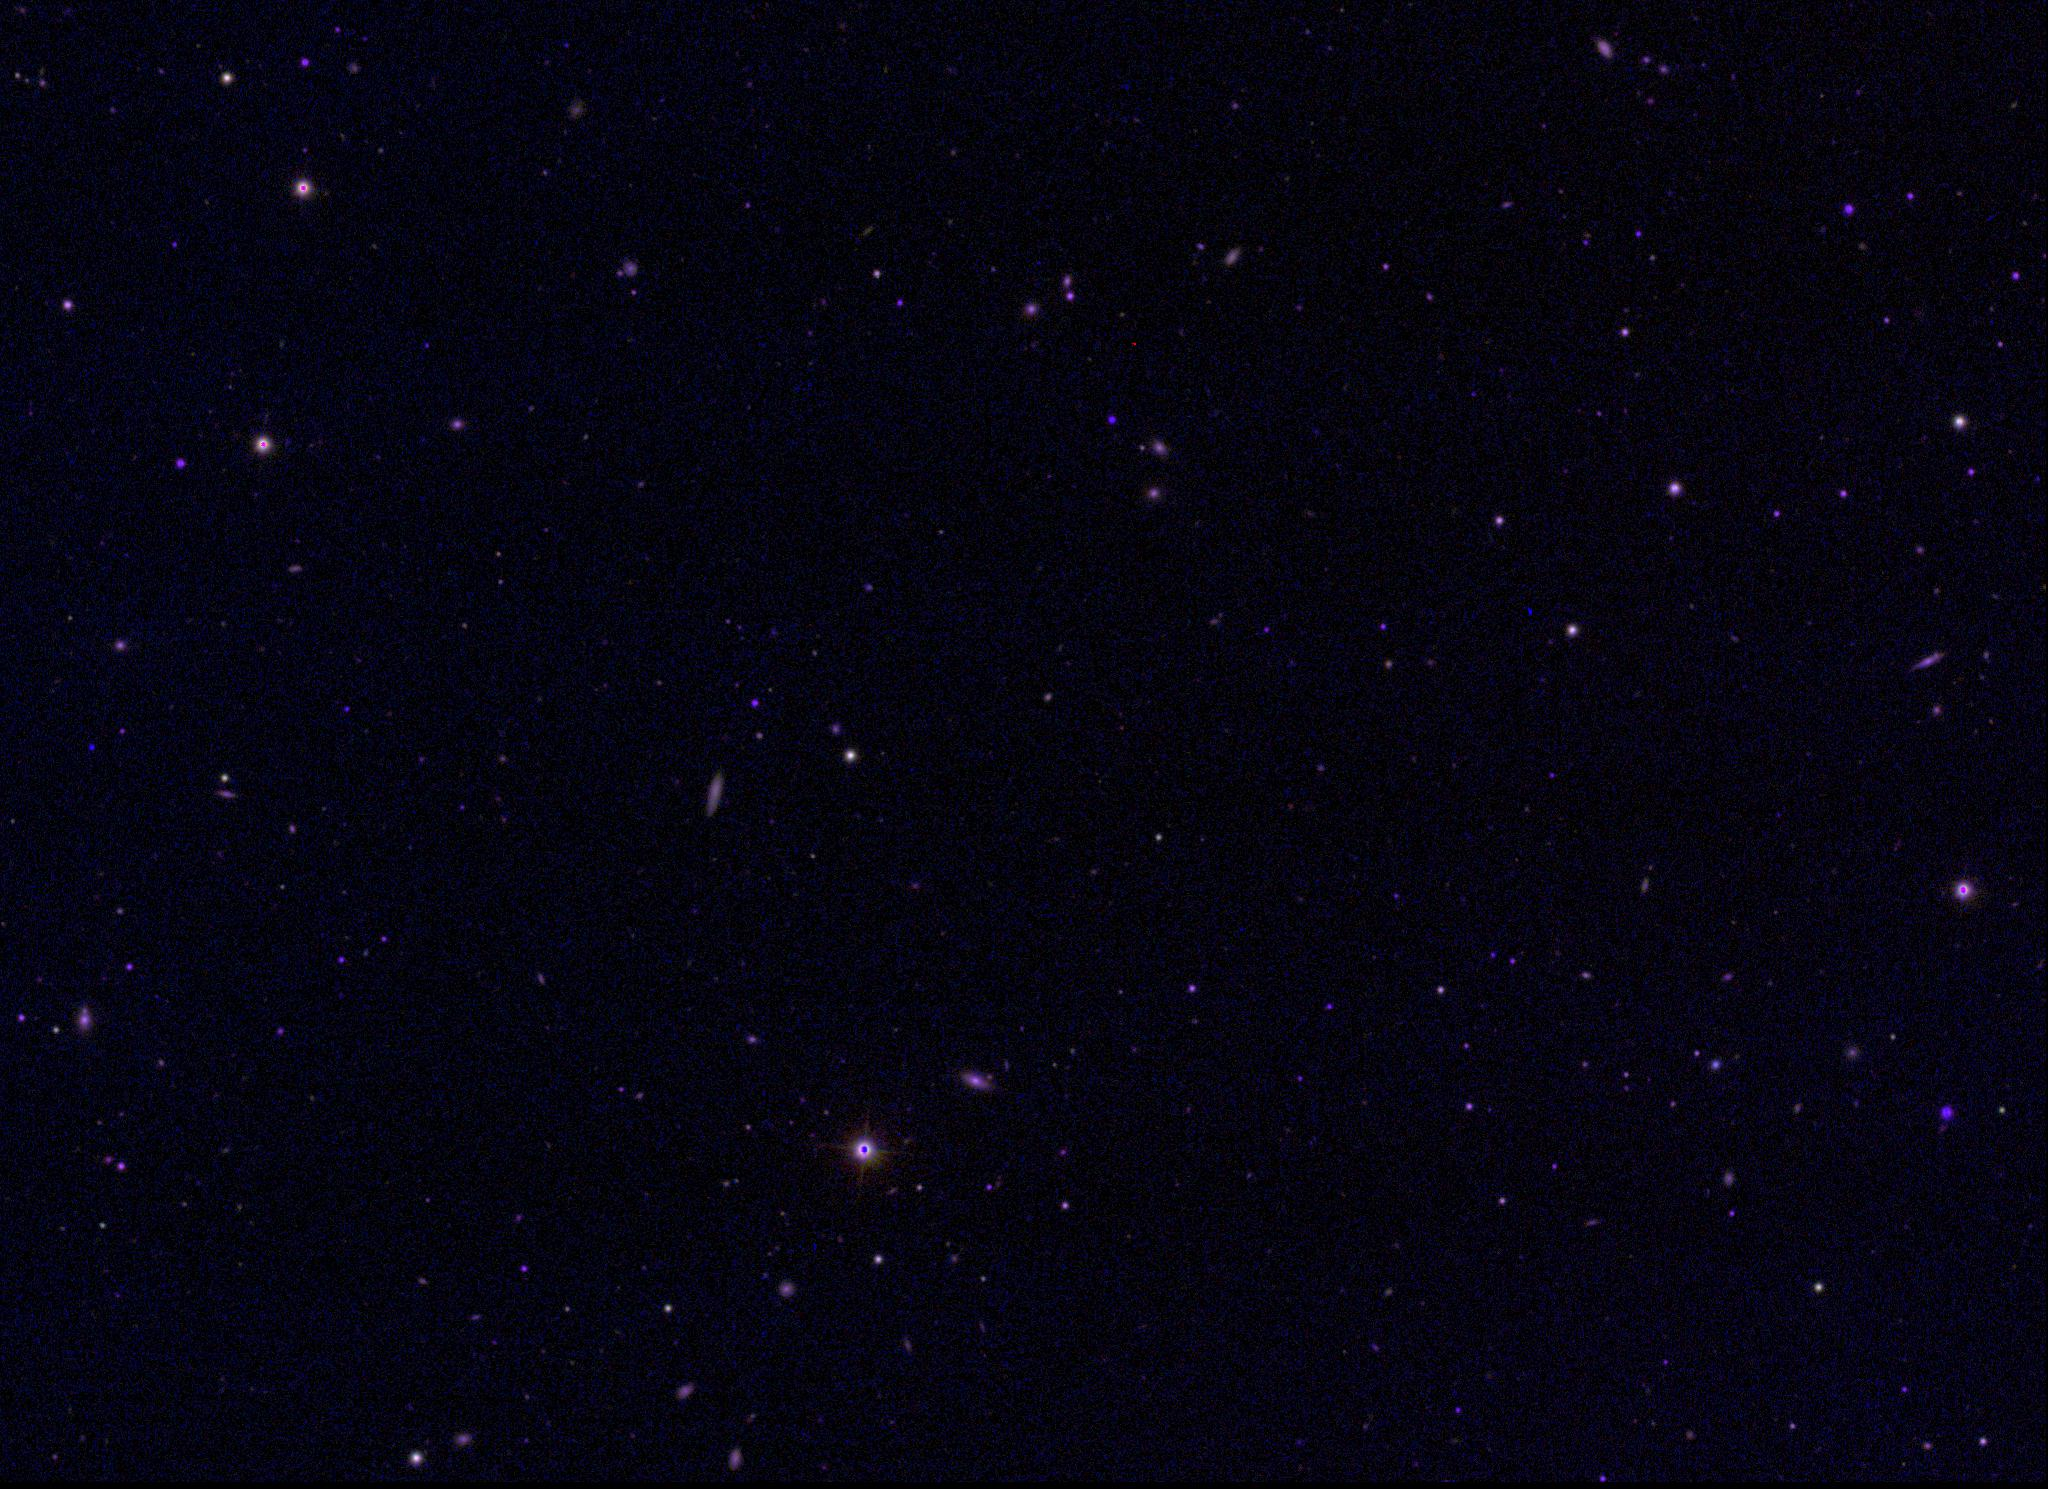L: (84, 738, 99, 752)
